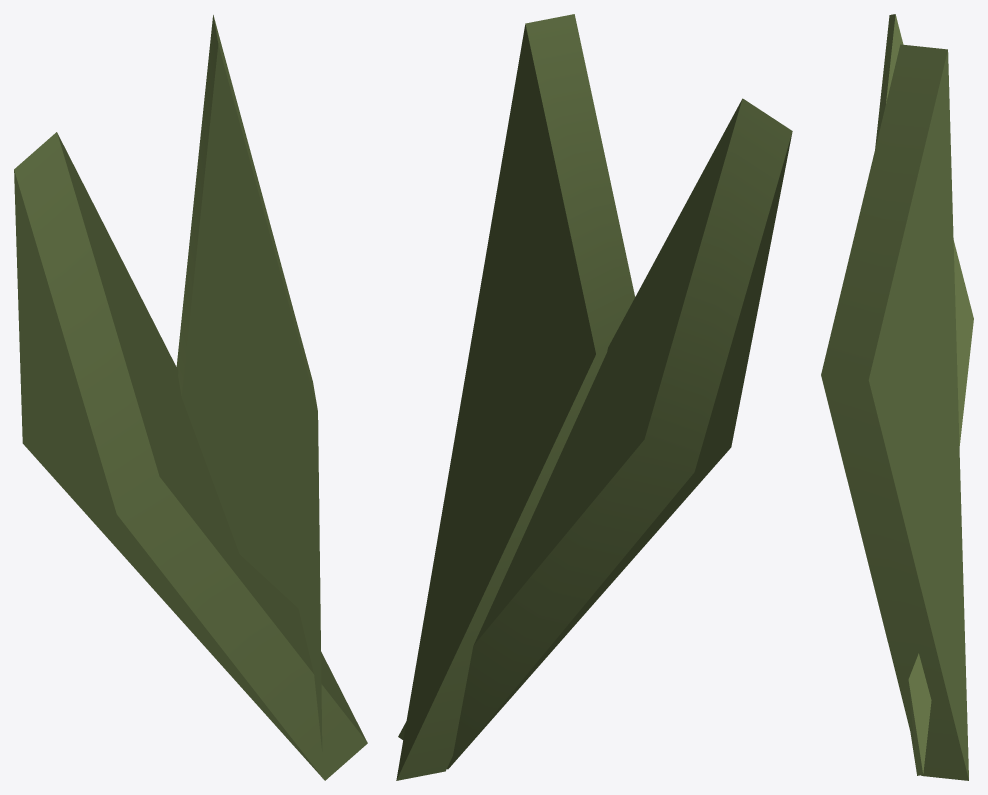
Rendered from PlantDec.fbx.
The picture shows the model from 3 angles, left to right: view 1: azimuth 30°, elevation 25°; view 2: azimuth 150°, elevation 25°; view 3: azimuth 270°, elevation 25°; orthographic projection. The views are drawn at different scales.
Parts seen in each view (by area): view 1: SPlant; view 2: SPlant; view 3: SPlant.
Part boxes in pixels (x1,y1,x2,y2): SPlant: (14, 15, 367, 780); SPlant: (396, 14, 792, 780); SPlant: (821, 14, 973, 780).
Size of the model in its own units: 0.7185 by 1.43 by 0.2892.
